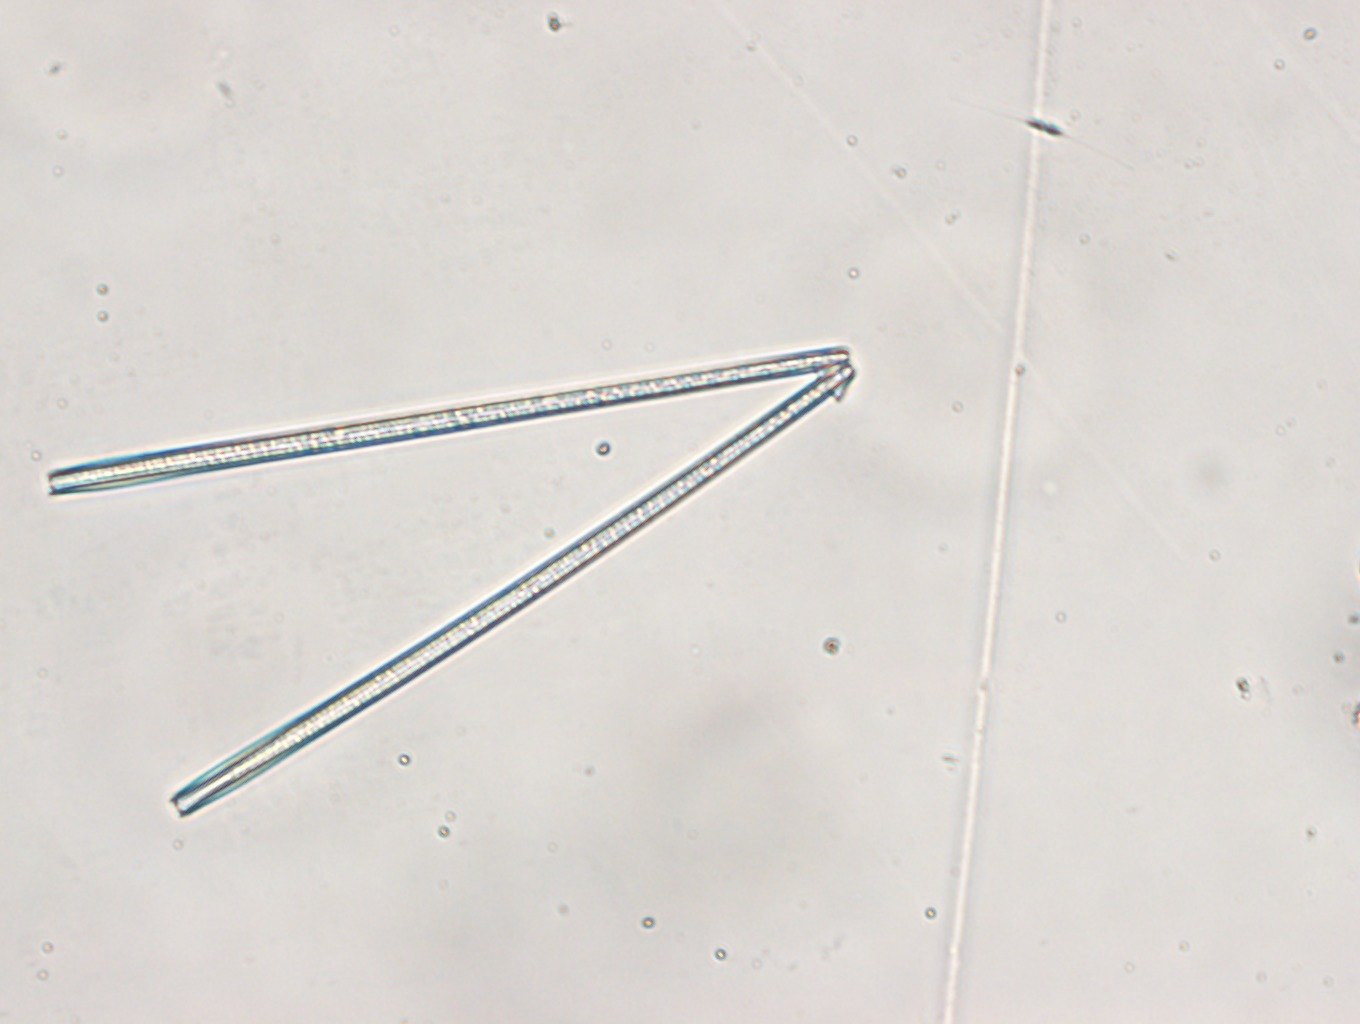thalassionema frauenfeldii: (46, 341, 857, 817)
